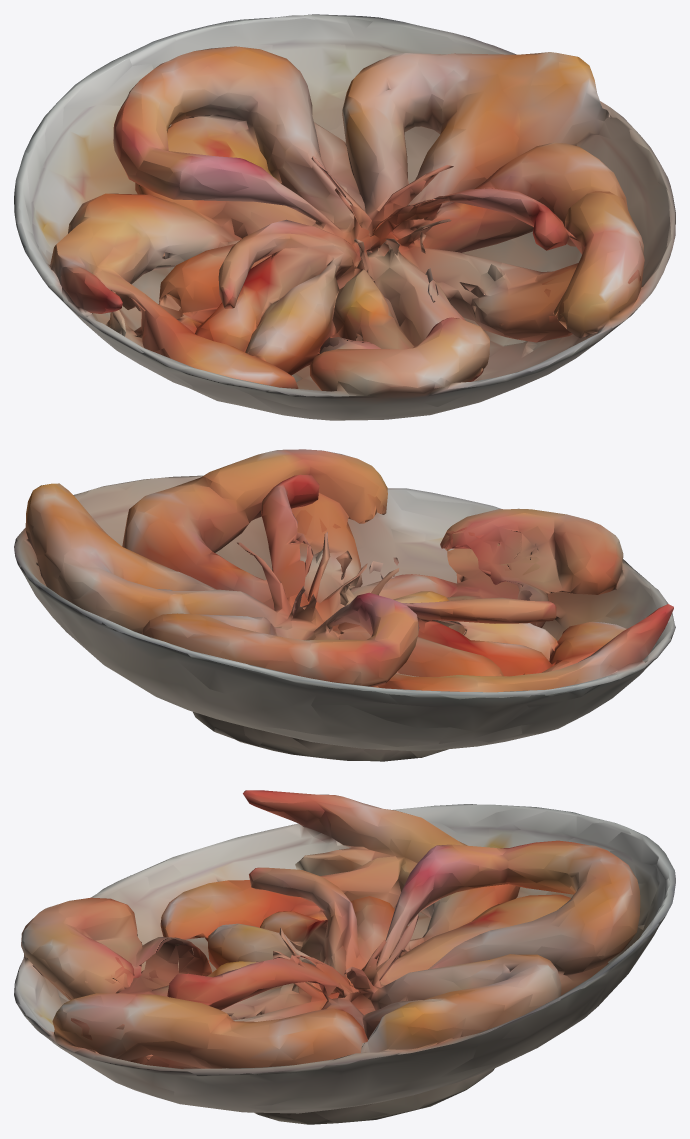
Rendered from 0000_mask_001_plate_of_shrimp.glb.
3 views of the same model, one above another, from view 1: azimuth 30°, elevation 25°; view 2: azimuth 150°, elevation 25°; view 3: azimuth 270°, elevation 25° (orthographic).
Visible parts, largest first — view 1: mask_001_object; view 2: mask_001_object; view 3: mask_001_object.
Boxes of the visible parts, x1,y1,x2,y2 form: mask_001_object: [14, 14, 675, 420]; mask_001_object: [14, 449, 675, 761]; mask_001_object: [14, 790, 675, 1124].
Size of the model in its own units: 0.4622 by 0.1585 by 0.4627.
